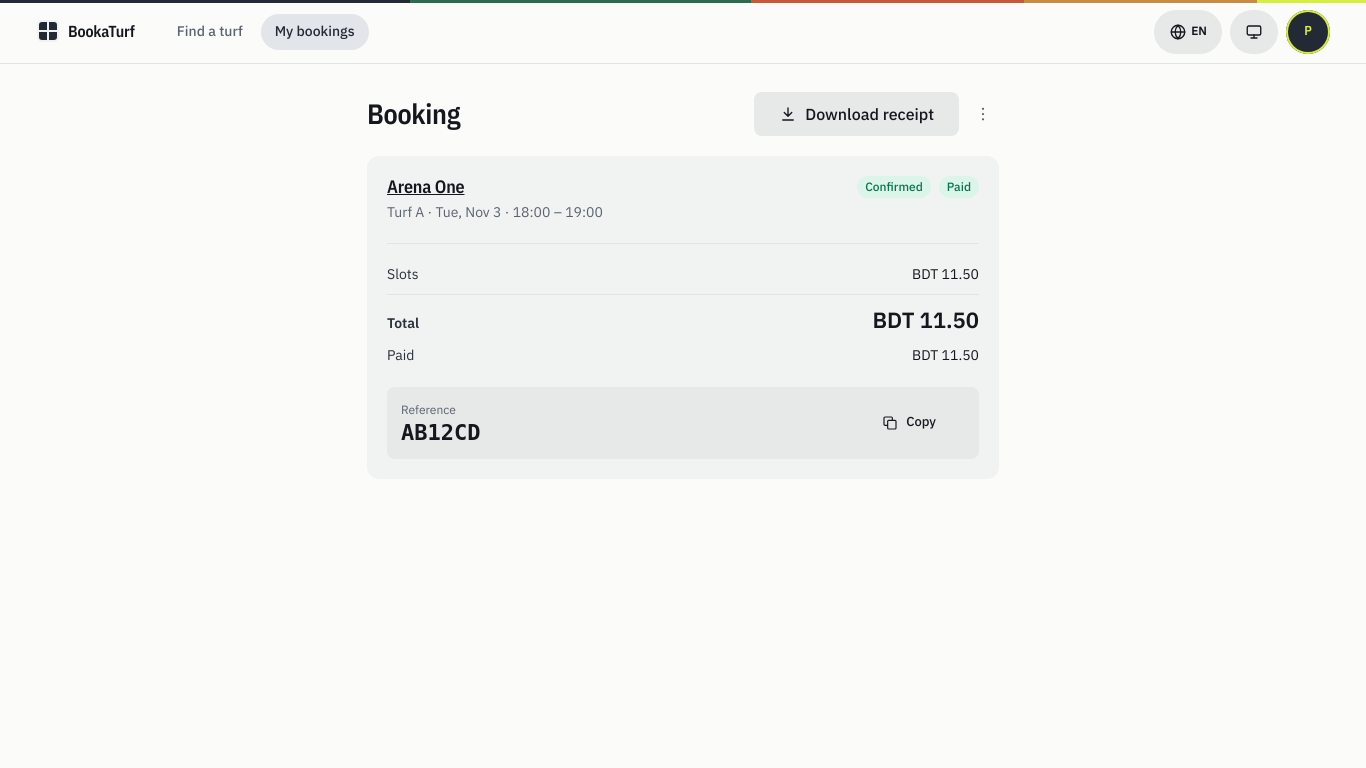
Test: cancel dialog › preview shows percent, amount and rule
Click the button named "More actions": (983, 114) [967,98,999,130]
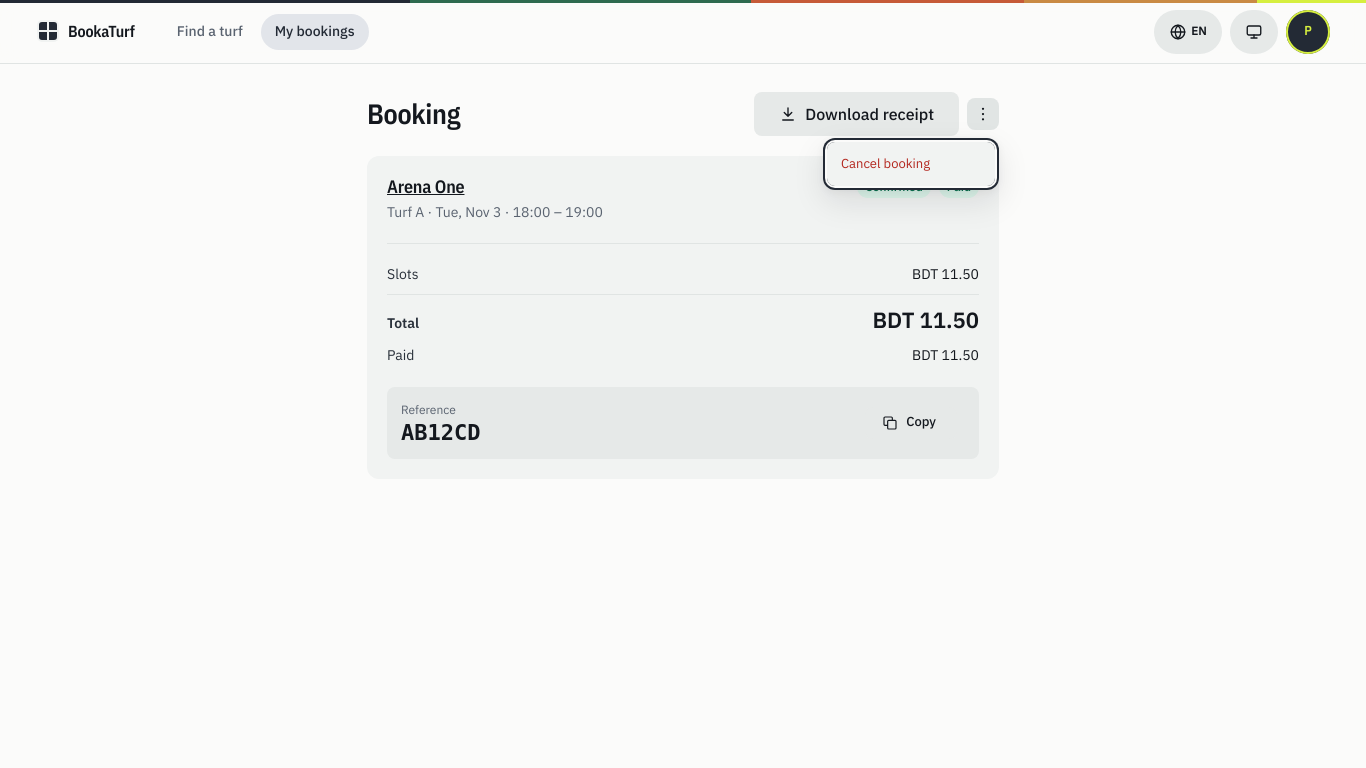
Click the menu item "Cancel booking": (911, 164) [827,142,995,186]
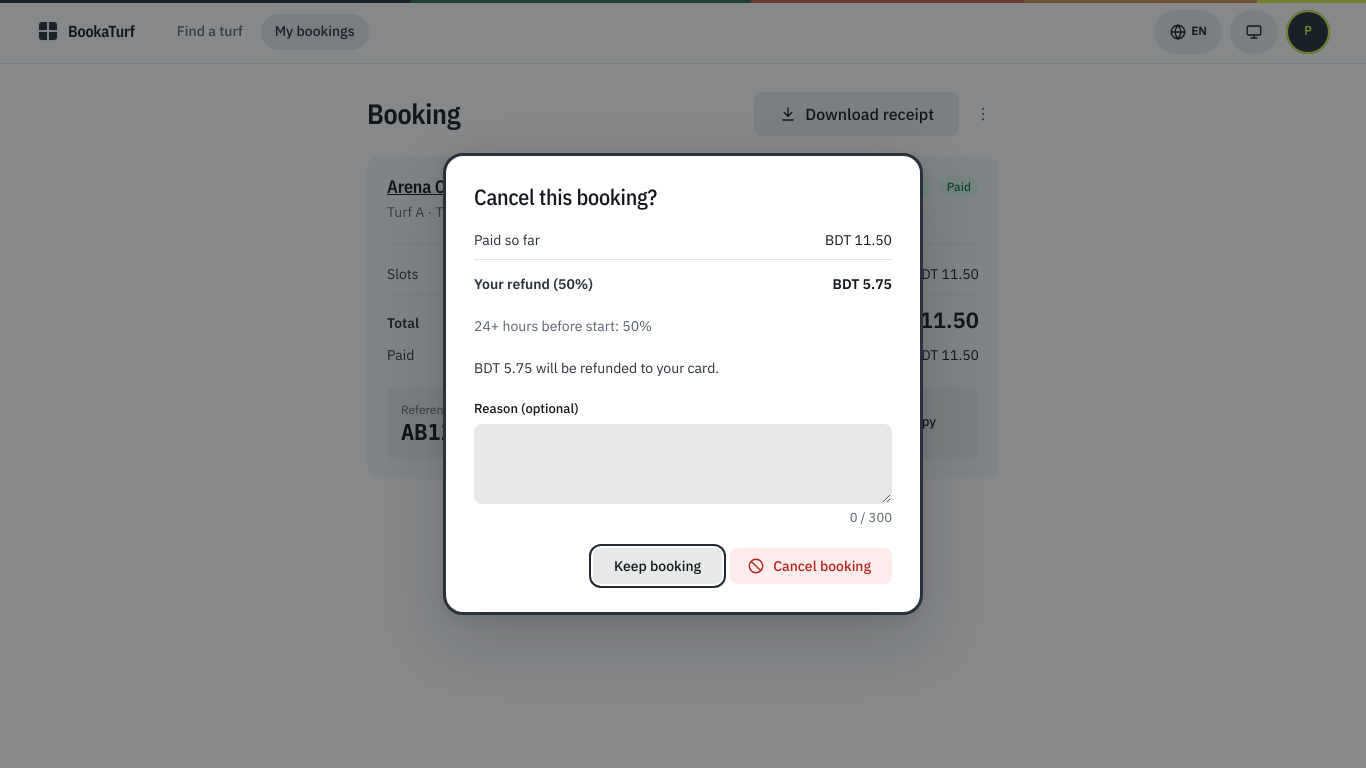
Now the text "Your refund (50%)" is shown, box [474,274,593,296]
